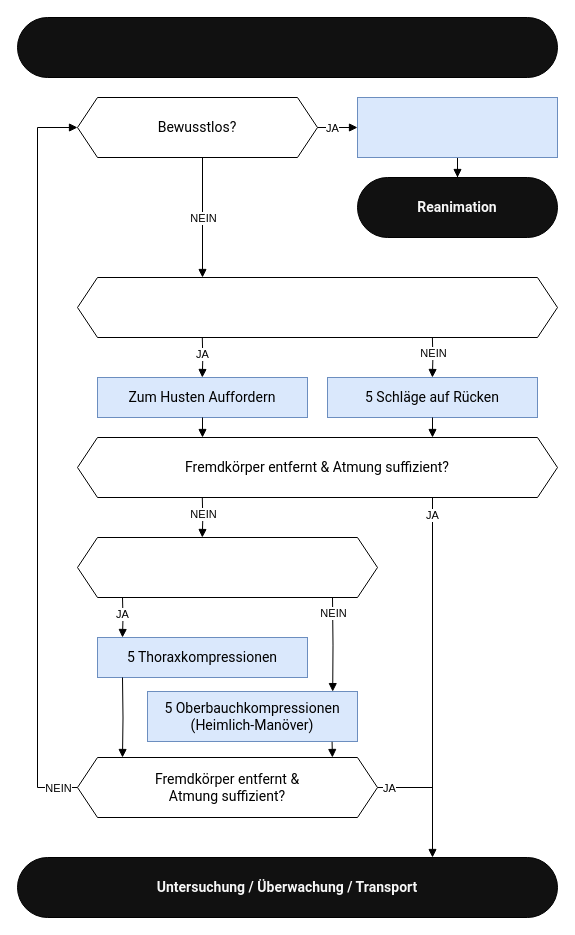
Some shapes in this 575 by 935 pixel diagram are drawn without their labels. Here are the shapes that lost their labels. From the top down, the box of each, then its label:
(16, 16, 558, 78): Fremdkörperverlegung
(356, 96, 558, 158): Laryngoskopie Magillzange / Absaugen
(76, 276, 558, 338): Hustenstoß effektiv?
(76, 536, 378, 598): Kind < 1 Jahr?
